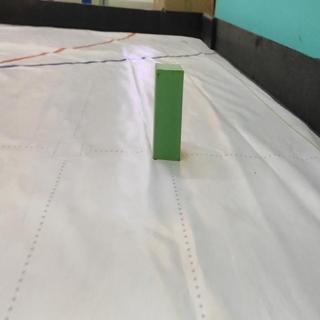greenbox: (152, 59, 184, 161)
